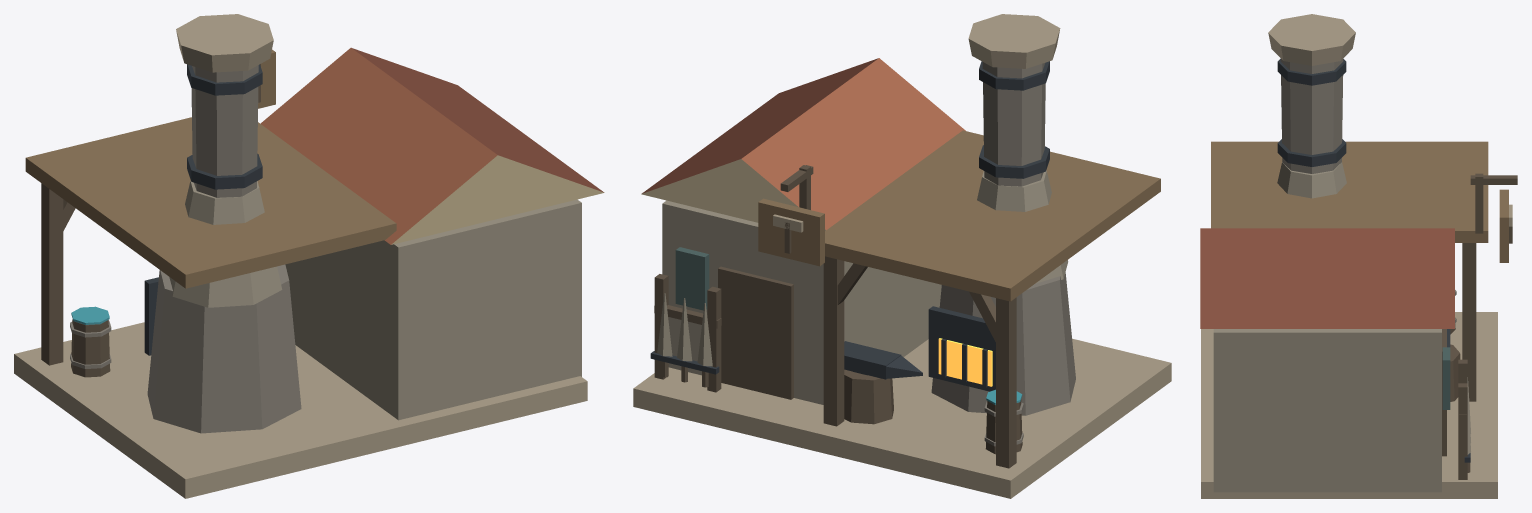
Rendered from Town_ArcaneSmithy.fbx.
The picture shows the model from 3 angles, left to right: view 1: azimuth 30°, elevation 25°; view 2: azimuth 150°, elevation 25°; view 3: azimuth 270°, elevation 25°; orthographic projection. The views are drawn at different scales.
Visible parts, largest first — view 1: Town_ArcaneSmithy; view 2: Town_ArcaneSmithy; view 3: Town_ArcaneSmithy.
Boxes of the visible parts, <box> form: Town_ArcaneSmithy: <box>14,14,604,498</box>; Town_ArcaneSmithy: <box>633,14,1171,498</box>; Town_ArcaneSmithy: <box>1200,14,1517,498</box>.
Bounding box in the file's own units: 5.37 × 4.8 × 4.06.
